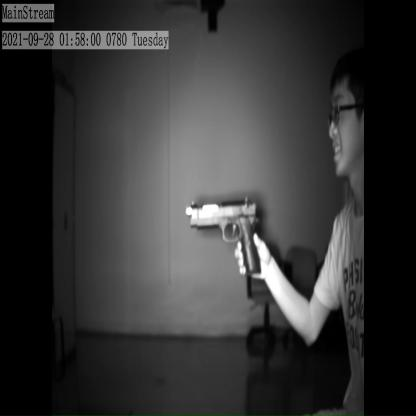weapon: (188, 186, 264, 278)
